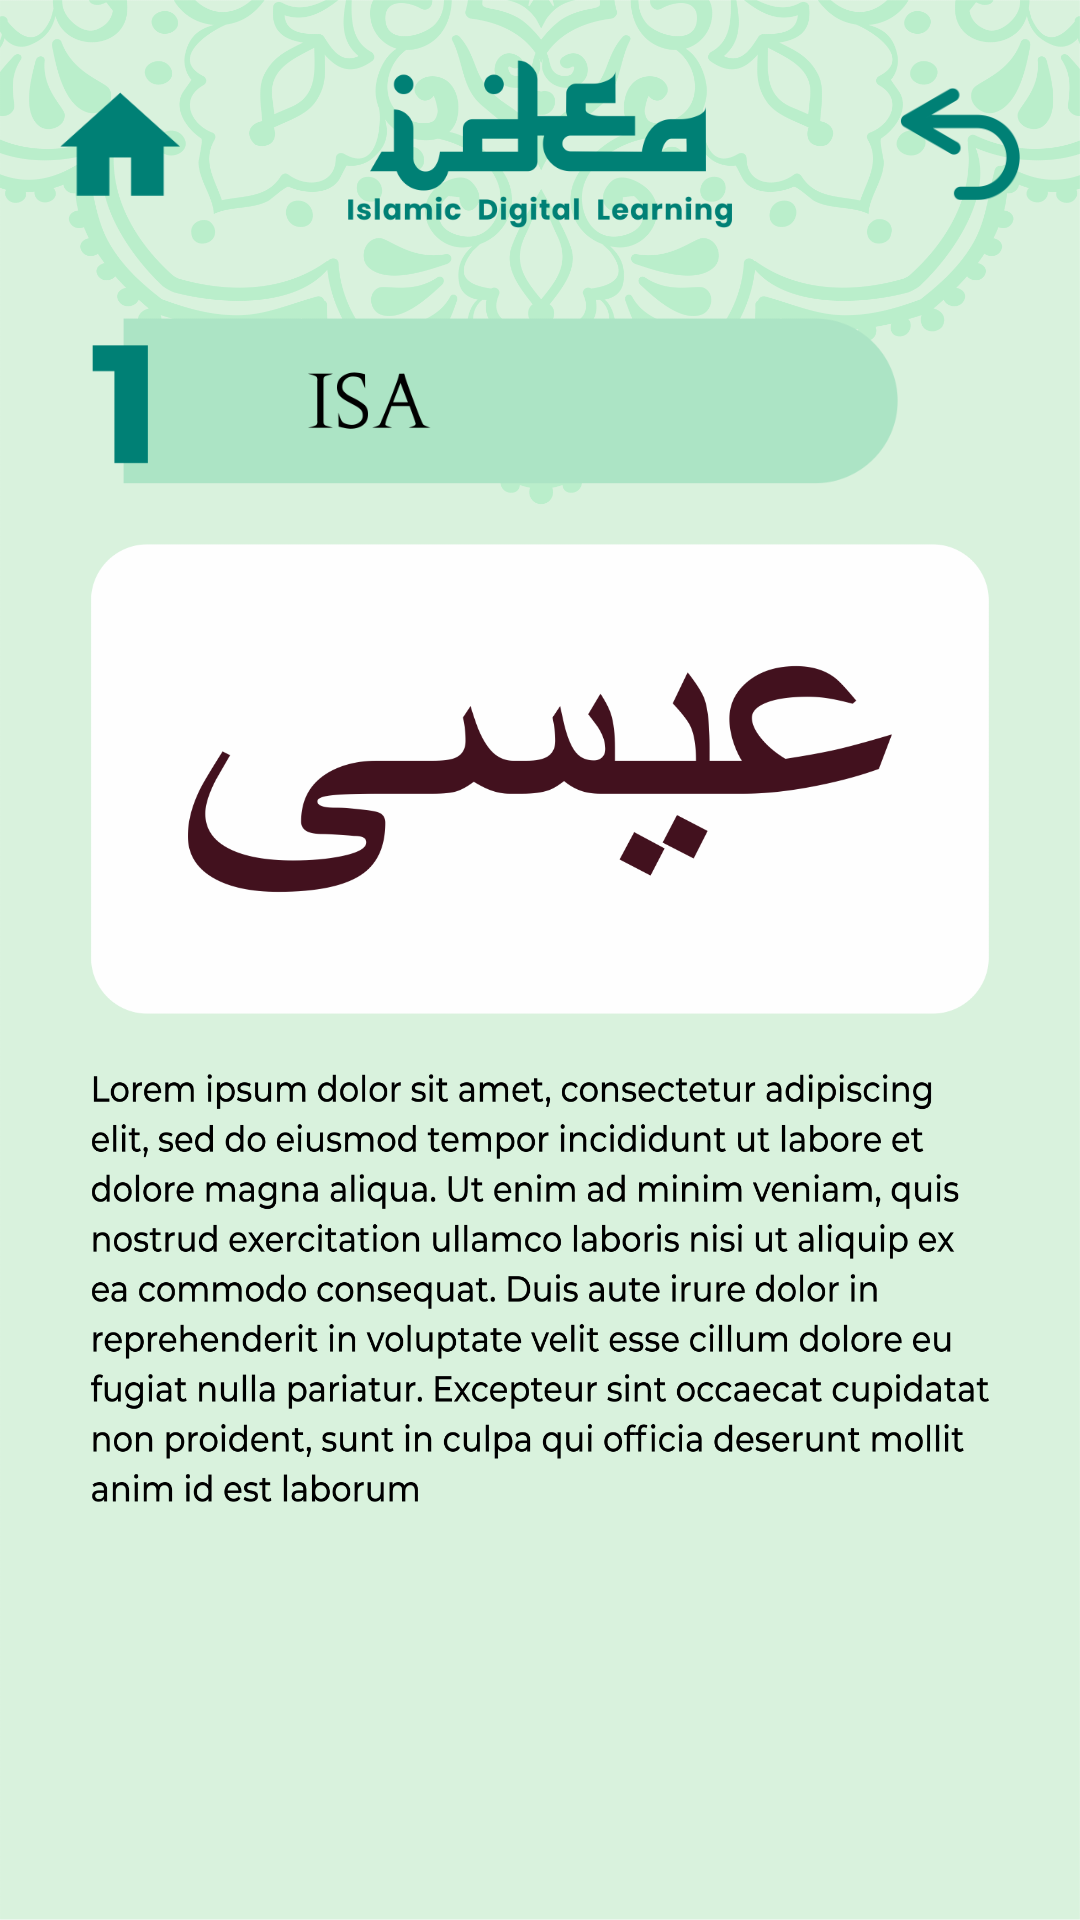

Screen size 1080×1920. Icon name, then its box in pixels as box(x1, y1, x2, y2):
back: box(900, 84, 1020, 204)
home: box(60, 84, 180, 204)
